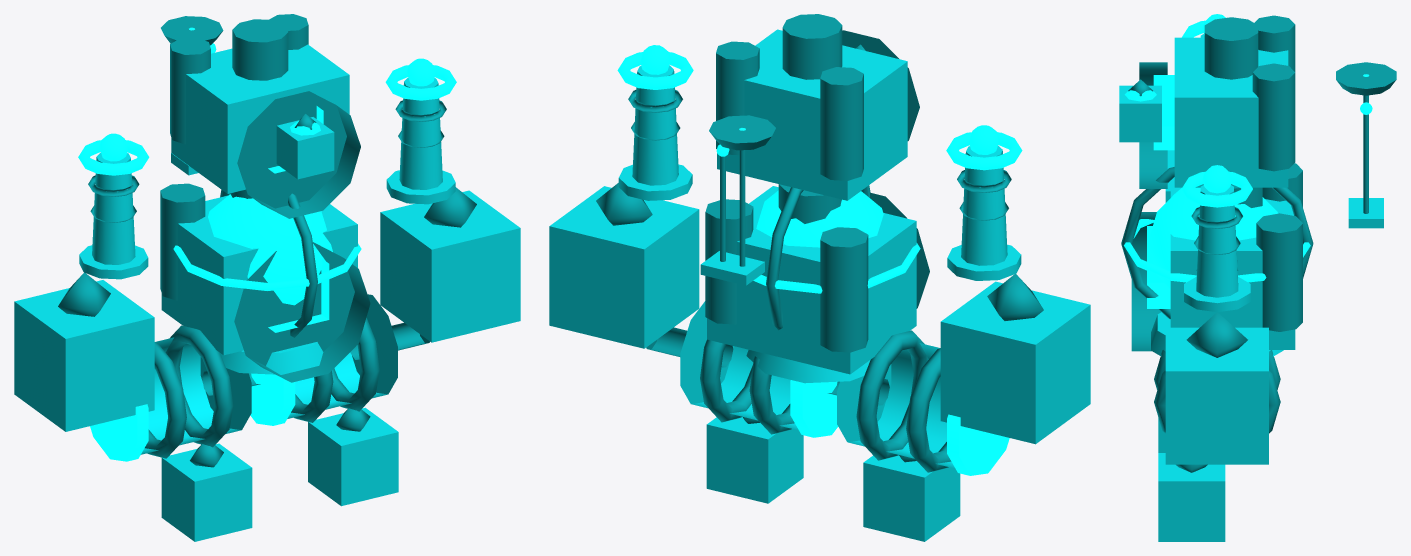
The model's file is golem_099.glb.
3 renders of one model, left to right at view 1: azimuth 30°, elevation 25°; view 2: azimuth 150°, elevation 25°; view 3: azimuth 270°, elevation 25°, orthographic. The views are drawn at different scales.
Visible parts, largest first — view 1: Body, Detail, Glow; view 2: Body, Detail, Glow; view 3: Body, Detail, Glow.
Boxes of the visible parts, x1,y1,x2,y2 form: Body: (14,44,520,541); Detail: (58,14,476,467); Glow: (78,27,456,461); Body: (549,29,1090,541); Detail: (596,14,1043,472); Glow: (617,45,1022,475); Body: (1119,34,1383,541); Detail: (1121,15,1396,472); Glow: (1124,14,1372,308).
Size of the model in its own units: 1.38 by 1.33 by 0.7228.
